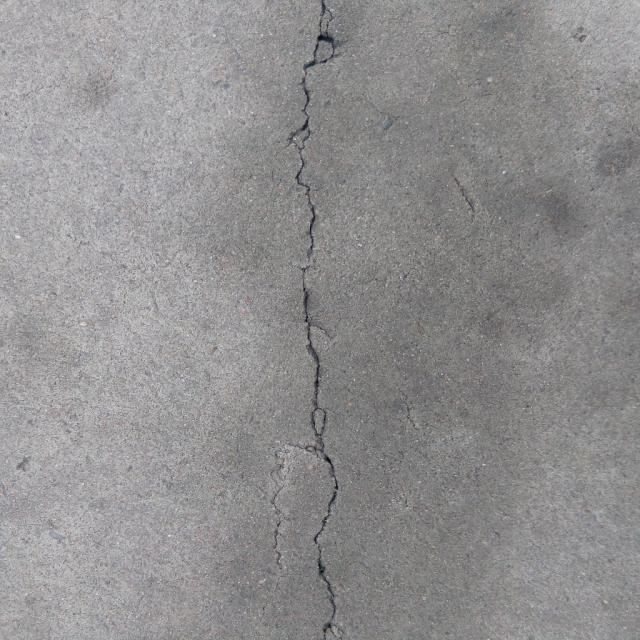cracks: (274, 0, 356, 634)
